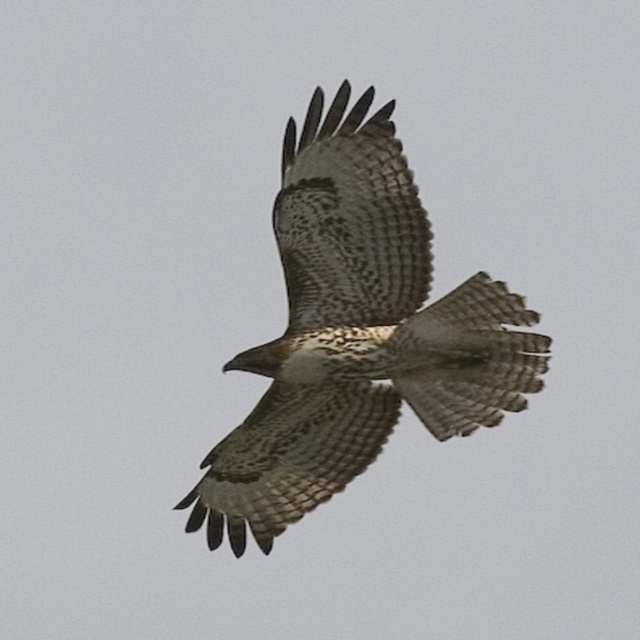Eagle: (157, 73, 571, 571)
